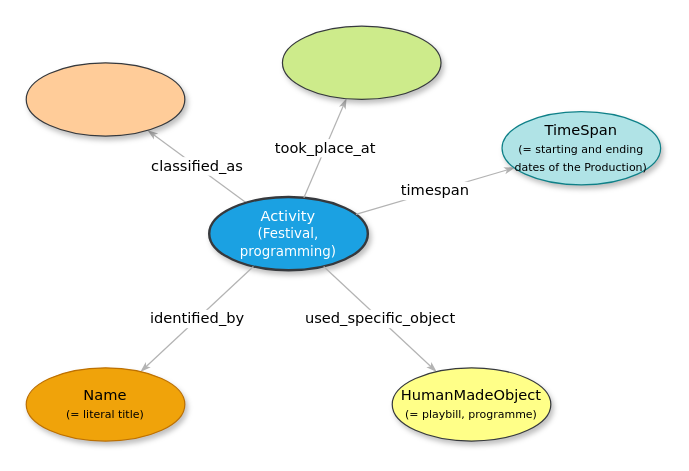
Some shapes in this 689 by 471 pixel diagram are drawn without their labels. The centre of each missing label's shape, as x and y in pixels:
Place (= theatre or city): the point at 362,64
type (ArtFestival ): the point at 106,101
